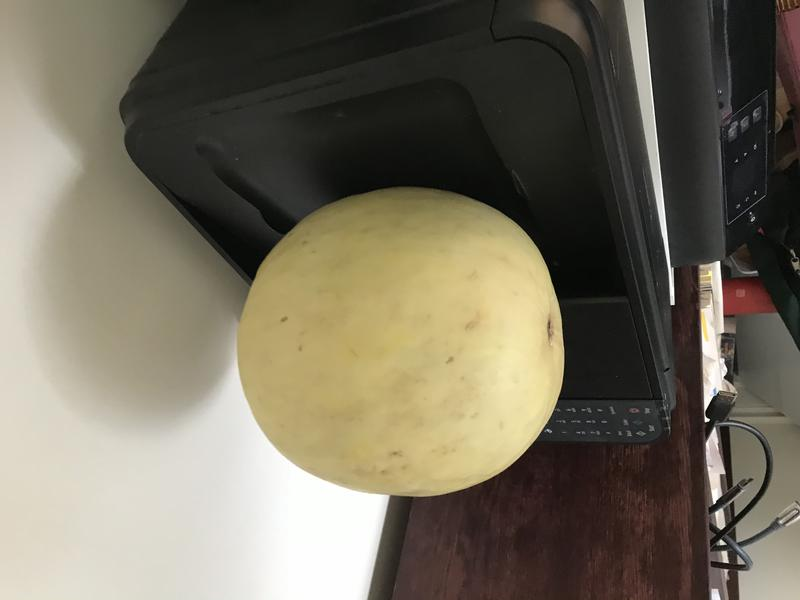honeydew: (229, 171, 575, 519)
